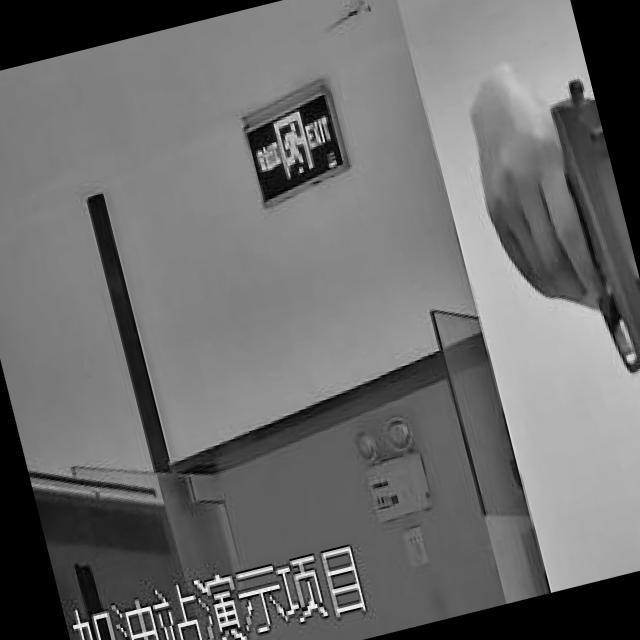Guns: (497, 48, 640, 539)
